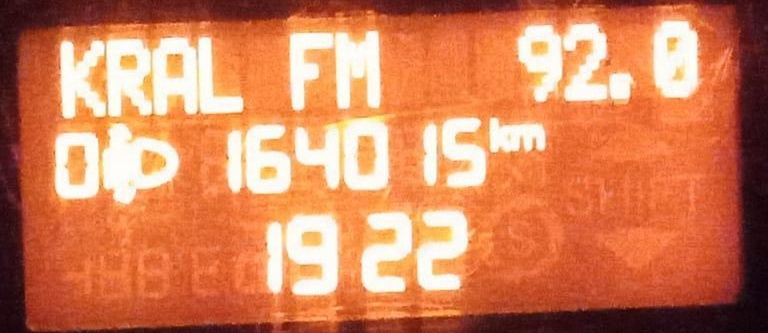-: (607, 70, 638, 104)
0: (651, 17, 702, 99), (341, 119, 388, 192), (53, 129, 99, 200)
1: (264, 220, 282, 295), (224, 128, 244, 193), (420, 119, 438, 188)
2: (360, 209, 412, 294), (416, 209, 466, 289), (561, 21, 608, 101)
4: (293, 125, 340, 192)
5: (443, 116, 484, 187)
6: (245, 122, 289, 195)
9: (284, 212, 341, 298), (515, 22, 561, 100)
X: (197, 31, 246, 115), (56, 37, 103, 122), (336, 28, 386, 106), (288, 29, 334, 111), (151, 31, 196, 114), (106, 34, 150, 117), (511, 121, 545, 153), (487, 115, 510, 155)
